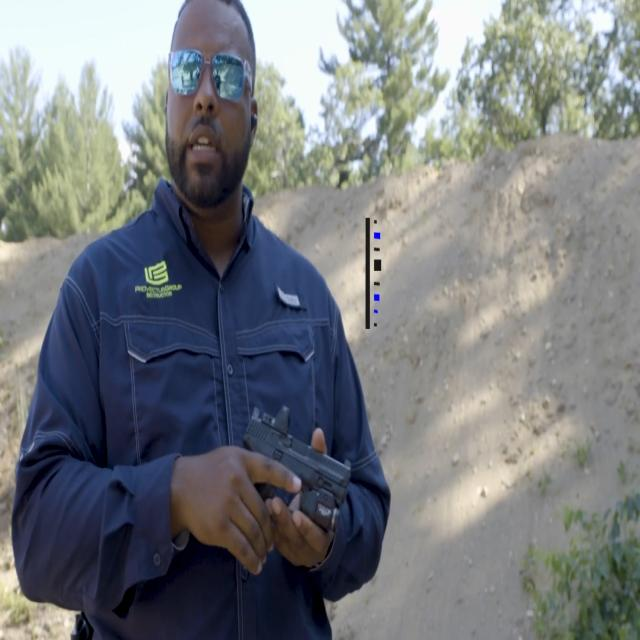Gun_Holder: (228, 386, 350, 600)
Person: (21, 0, 386, 640)
